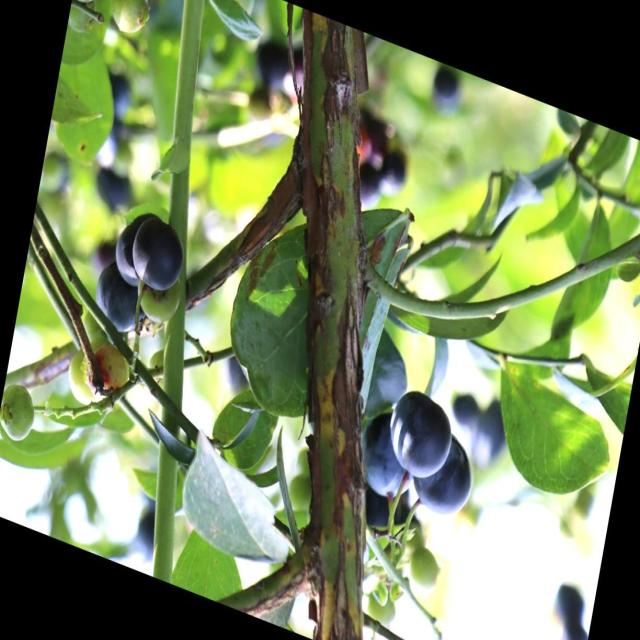blueberry: (382, 380, 457, 487), (350, 402, 422, 509), (408, 423, 477, 525), (126, 208, 188, 299), (105, 198, 156, 292), (90, 262, 149, 341)
blueberry-unripe: (79, 336, 134, 415), (0, 378, 39, 441), (136, 278, 180, 331), (404, 544, 440, 602), (108, 0, 153, 39), (489, 636, 544, 640), (72, 0, 104, 5)
